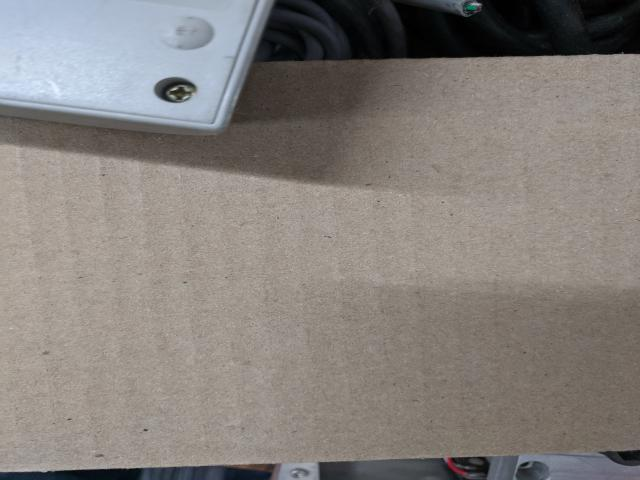CRS: (160, 82, 200, 103)
